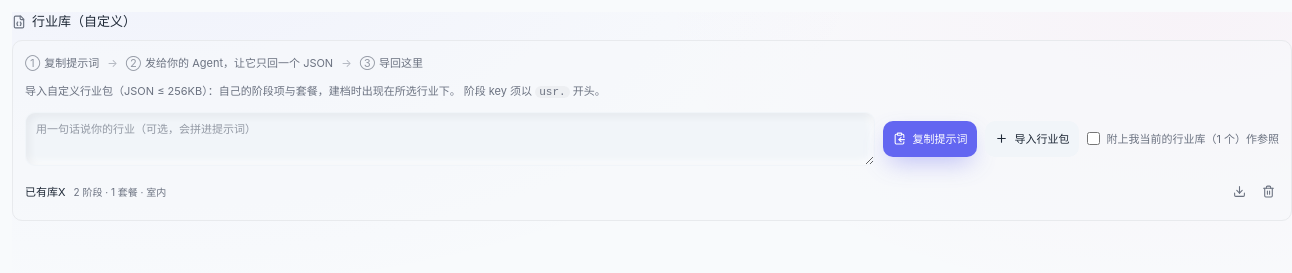
CustomLibrarySection · 她反馈 #6.2 新流程 › ⑤ 已导入行「导出」下载该包 JSON
The width and height of the screenshot is (1292, 273).
Click the button with test id "library-export-已有库X" at [1240, 192], box [1229,181,1250,202]
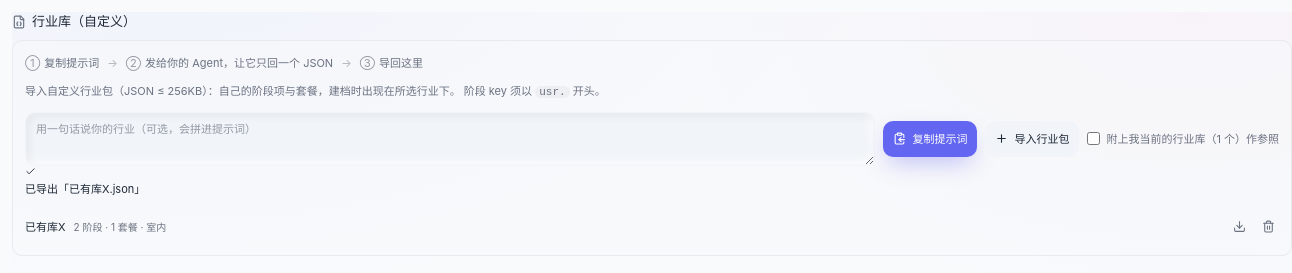
Expected: the text "已导出「已有库X.json」" is shown, [25,166,145,196]
